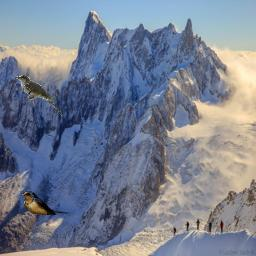Cuckoo: (15, 75, 63, 116)
Swallow: (21, 191, 70, 215)
